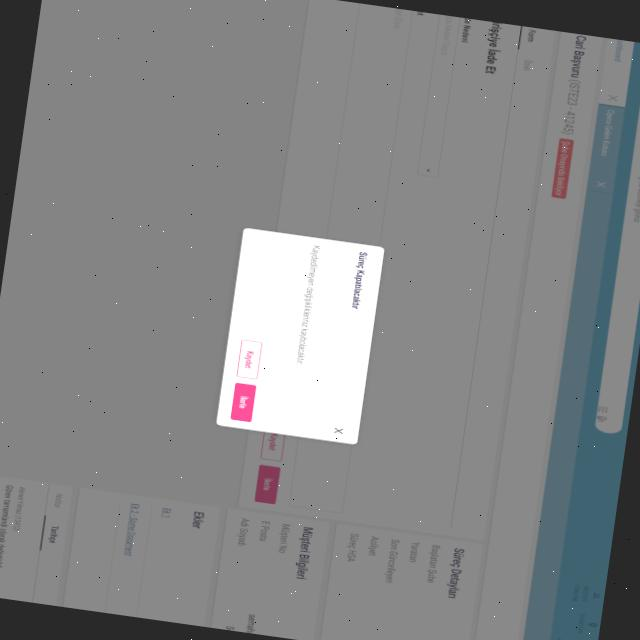QLabel: (294, 242, 322, 364), (349, 250, 369, 310), (243, 349, 255, 368), (237, 394, 250, 408)
VBtn: (235, 338, 264, 379), (229, 381, 258, 422)
VDialog: (215, 226, 385, 444)
VIcon: (332, 424, 345, 434)
